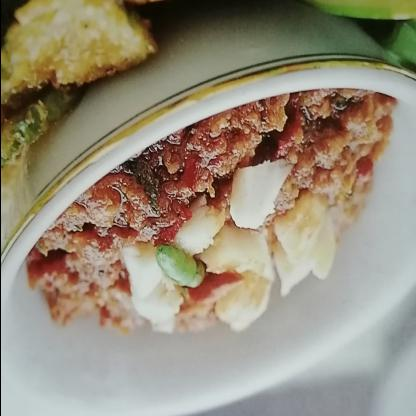Namprig: (1, 59, 406, 405)
